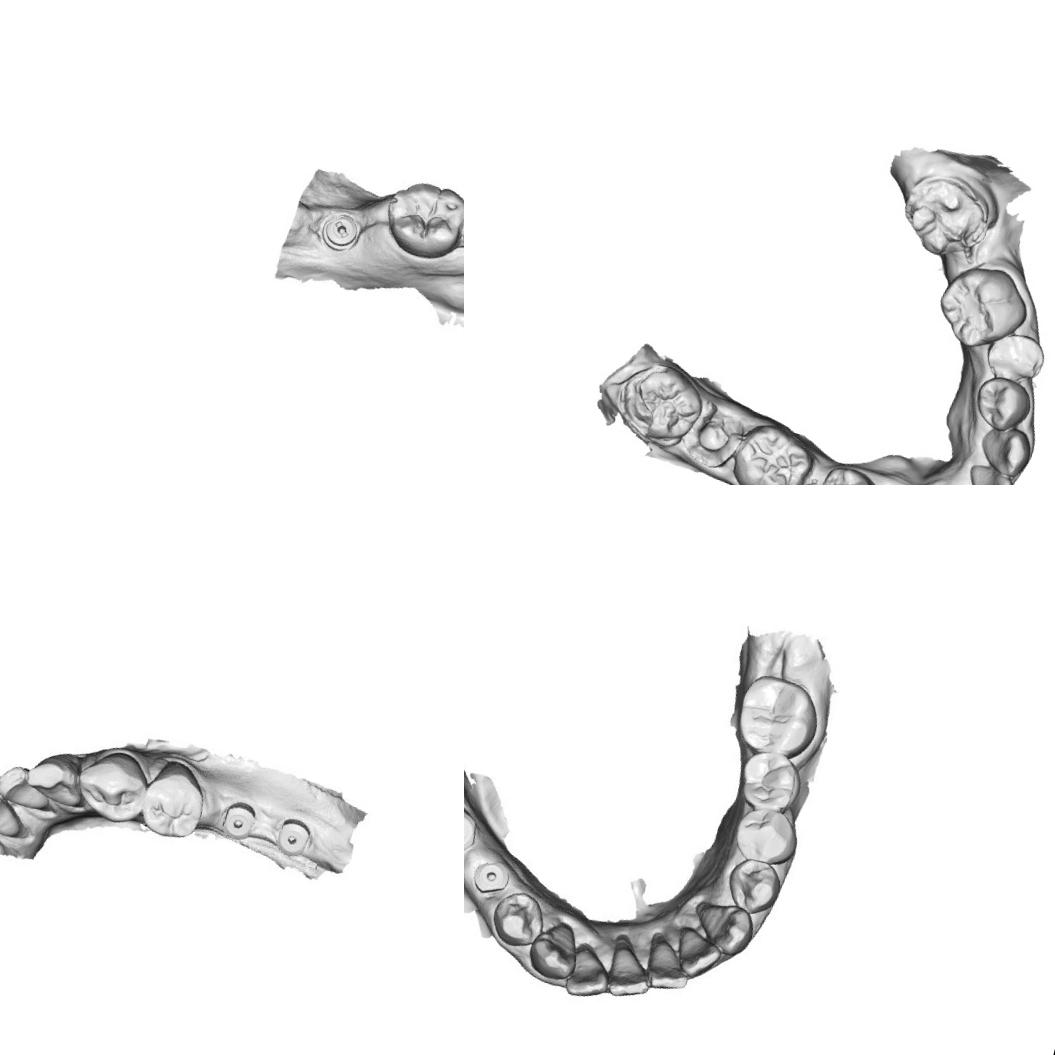canine: (20, 750, 87, 816), (521, 916, 582, 984), (686, 897, 756, 956), (973, 420, 1037, 481)
implant: (220, 798, 265, 843), (466, 856, 512, 899), (272, 811, 312, 859)
implant_minus: (315, 203, 364, 257), (464, 808, 481, 857)
incisor: (602, 935, 658, 1005), (562, 940, 619, 1005), (640, 934, 697, 996), (671, 926, 727, 983), (0, 761, 49, 809), (0, 787, 29, 843), (959, 460, 1015, 485)
molar: (929, 256, 1036, 358), (606, 352, 711, 454), (893, 166, 1000, 266), (729, 666, 825, 765), (376, 171, 464, 266), (721, 415, 820, 485)
premolar: (134, 754, 214, 846), (72, 746, 152, 834), (734, 746, 806, 819), (718, 852, 786, 920), (730, 804, 802, 868), (968, 370, 1036, 436), (980, 326, 1050, 388), (487, 888, 550, 951), (813, 461, 878, 485)
